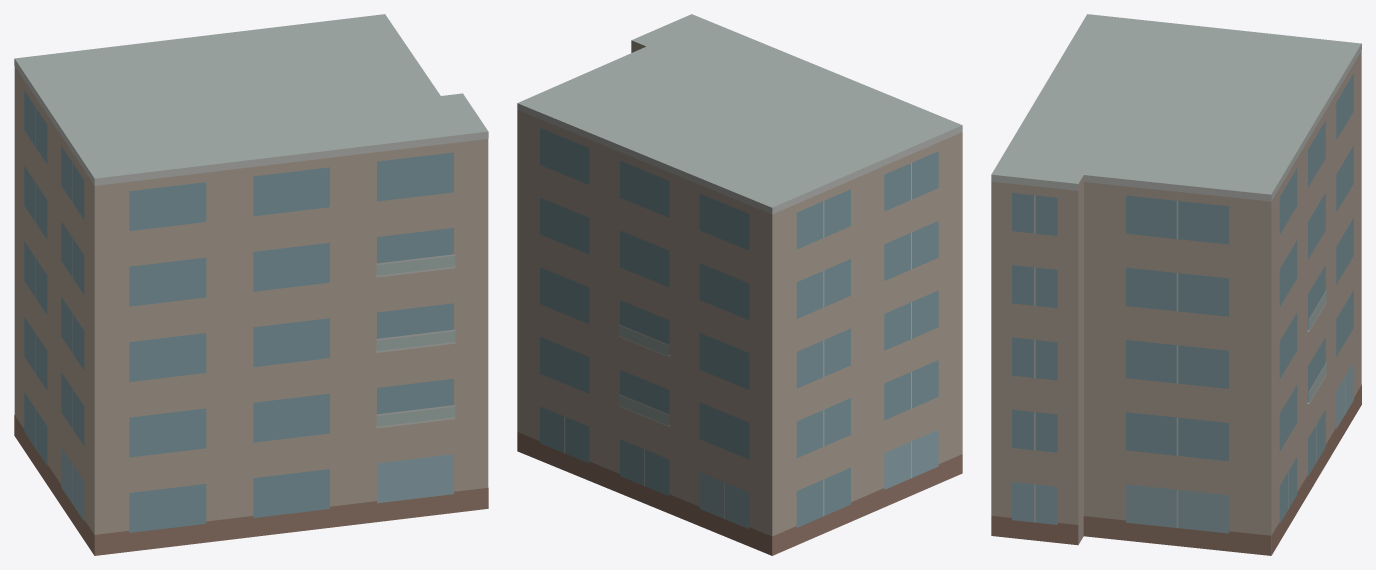
File: survey-upis-32657402.glb
The picture shows the model from 3 angles, left to right: view 1: azimuth 30°, elevation 25°; view 2: azimuth 150°, elevation 25°; view 3: azimuth 270°, elevation 25°; orthographic projection. The views are drawn at different scales.
Parts seen in each view (by area): view 1: survey-upis-32657402.tmp; view 2: survey-upis-32657402.tmp; view 3: survey-upis-32657402.tmp.
Part boxes in pixels (bbox=[...]): survey-upis-32657402.tmp: bbox=[14, 14, 488, 555]; survey-upis-32657402.tmp: bbox=[517, 14, 962, 555]; survey-upis-32657402.tmp: bbox=[991, 14, 1361, 555].
Size of the model in its own units: 13.63 by 12.7 by 11.81.
